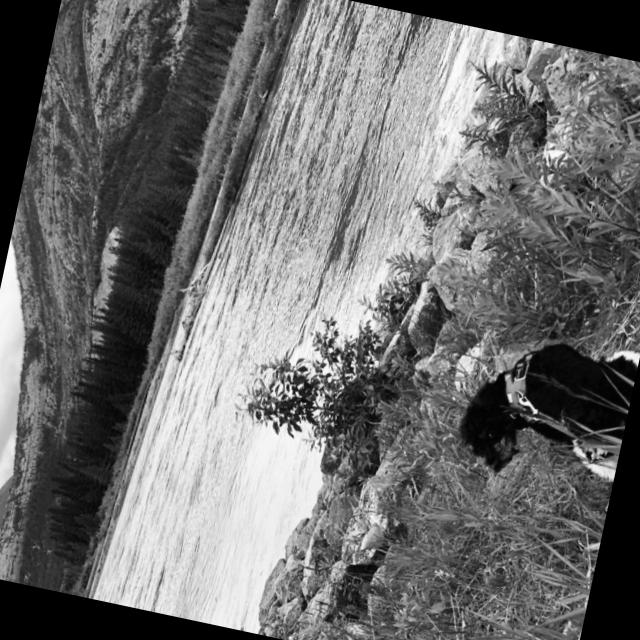squatting: (449, 298, 640, 510)
